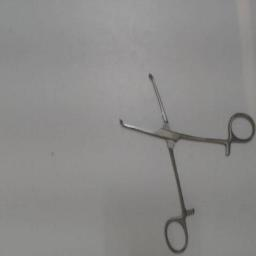Allis Tissue Forceps: (114, 63, 256, 255)
